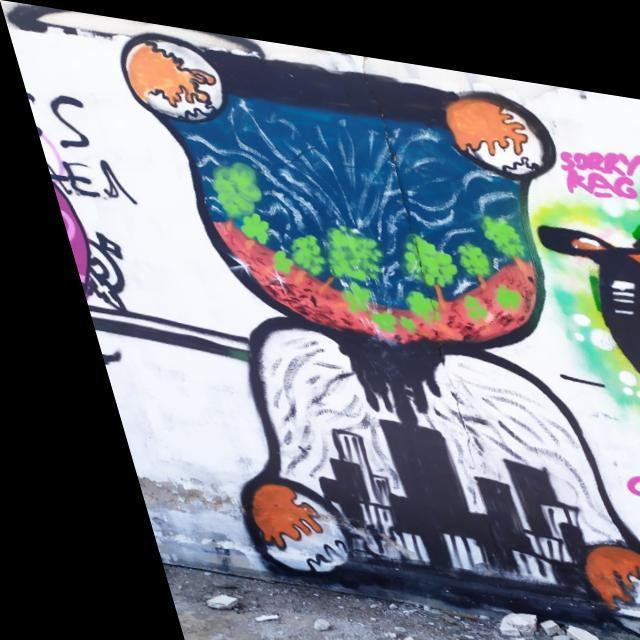-: (107, 18, 640, 640), (549, 122, 640, 194), (591, 448, 640, 547)
